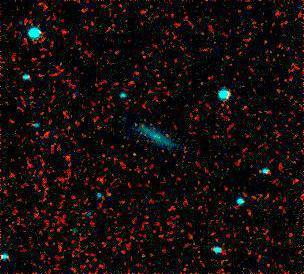star: (122, 136, 152, 166)
